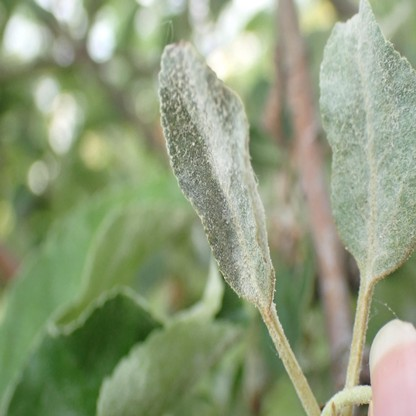powder: (158, 37, 275, 317), (318, 0, 416, 278), (98, 349, 149, 415)
